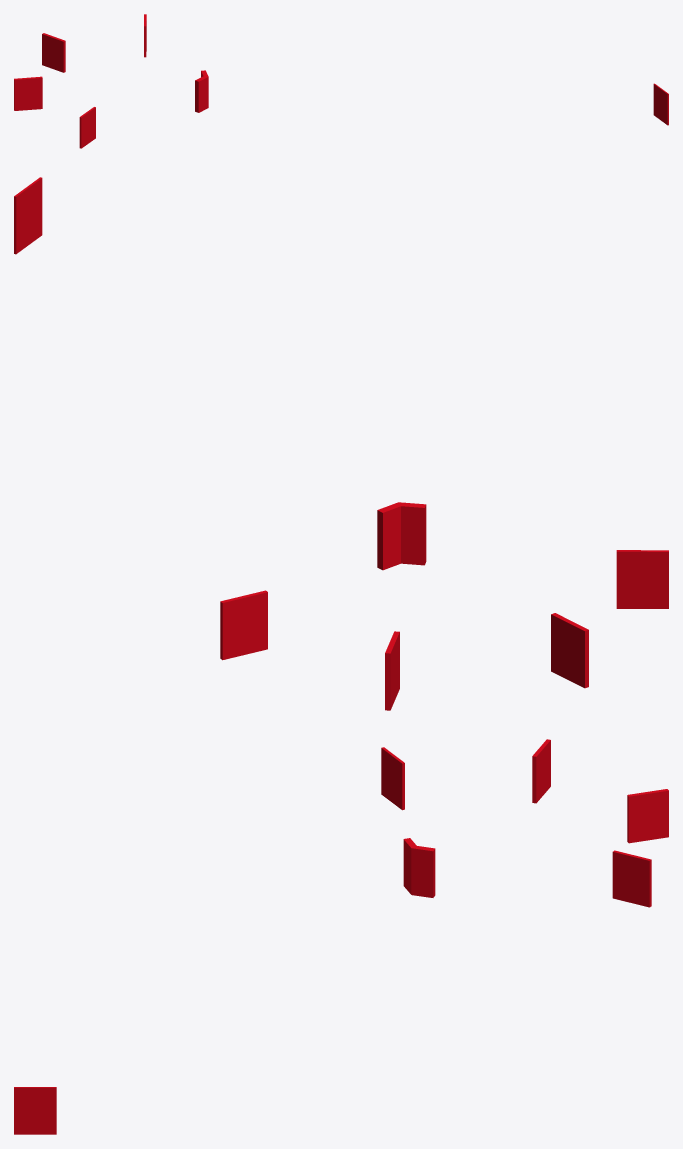
The model's file is puertasRojas.fbx.
The picture shows the model from 3 angles, top to bottom: view 1: azimuth 30°, elevation 25°; view 2: azimuth 150°, elevation 25°; view 3: azimuth 270°, elevation 25°; orthographic projection. The views are drawn at different scales.
Visible parts, largest first — view 1: Curve.048, Curve.047, Curve.049, Curve.044, Curve.050; view 2: Curve.049, Curve.050, Curve.046, Curve.048, Curve.044, Curve.047; view 3: Curve.047, Curve.044, Curve.046, Curve.050, Curve.049, Curve.048.
Part boxes in pixels (bbox=[...]): Curve.048: bbox=[14, 76, 42, 110]; Curve.047: bbox=[42, 33, 65, 72]; Curve.049: bbox=[79, 107, 95, 148]; Curve.044: bbox=[653, 83, 668, 125]; Curve.050: bbox=[195, 70, 208, 112]; Curve.049: bbox=[616, 550, 668, 608]; Curve.050: bbox=[377, 502, 426, 570]; Curve.046: bbox=[220, 590, 267, 660]; Curve.048: bbox=[551, 613, 588, 688]; Curve.044: bbox=[14, 177, 42, 254]; Curve.047: bbox=[385, 631, 399, 710]; Curve.047: bbox=[627, 789, 668, 843]; Curve.044: bbox=[14, 1087, 56, 1134]; Curve.046: bbox=[612, 850, 651, 907]; Curve.050: bbox=[403, 838, 435, 897]; Curve.049: bbox=[381, 747, 404, 810]; Curve.048: bbox=[532, 739, 550, 803].
Size of the model in its own units: 8959 by 563 by 7118.
